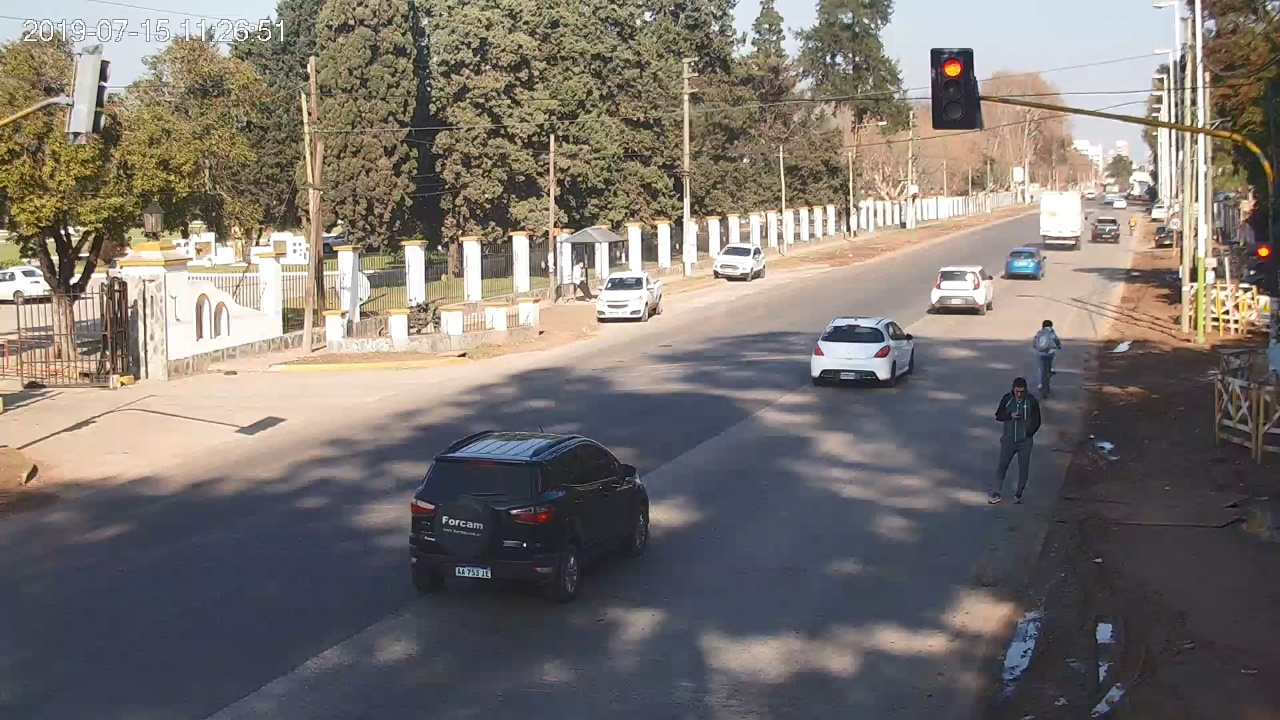car: (409, 430, 650, 603), (810, 316, 915, 386), (931, 264, 994, 315)
traffic light: (939, 53, 968, 122), (1254, 243, 1271, 288)
